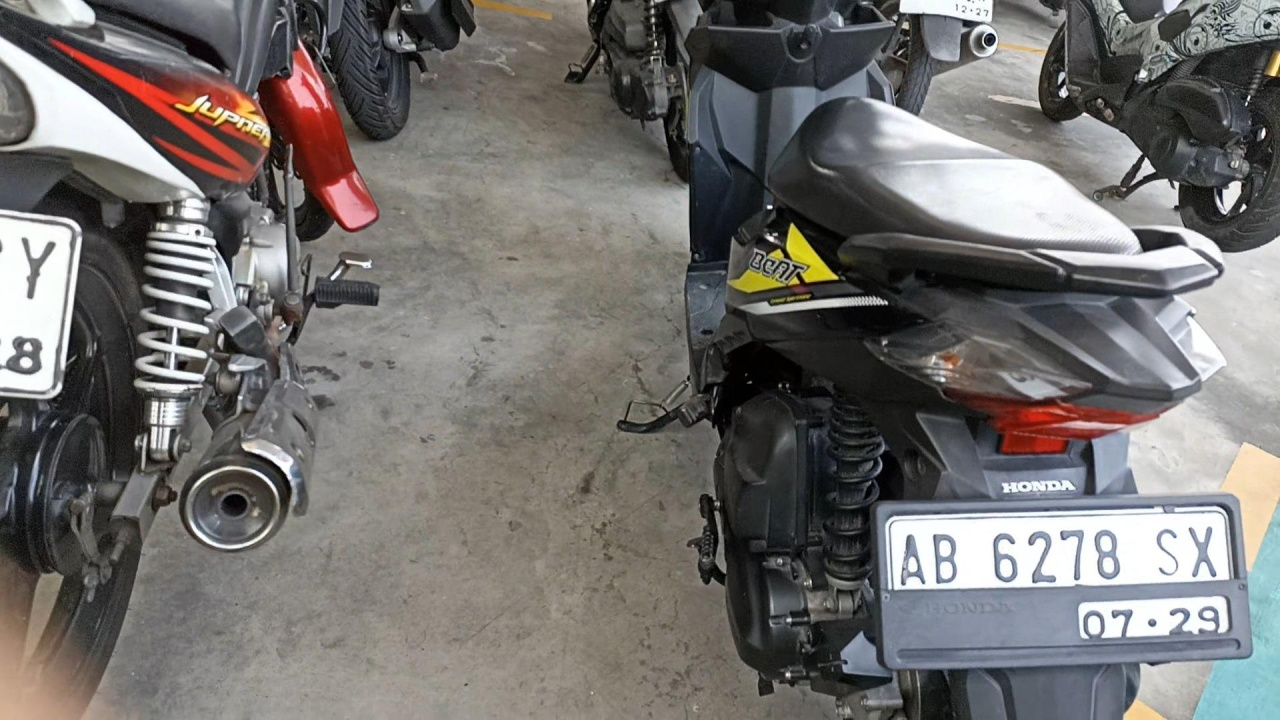plate: (876, 501, 1246, 667)
